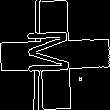M_E: (29, 31, 81, 79)
